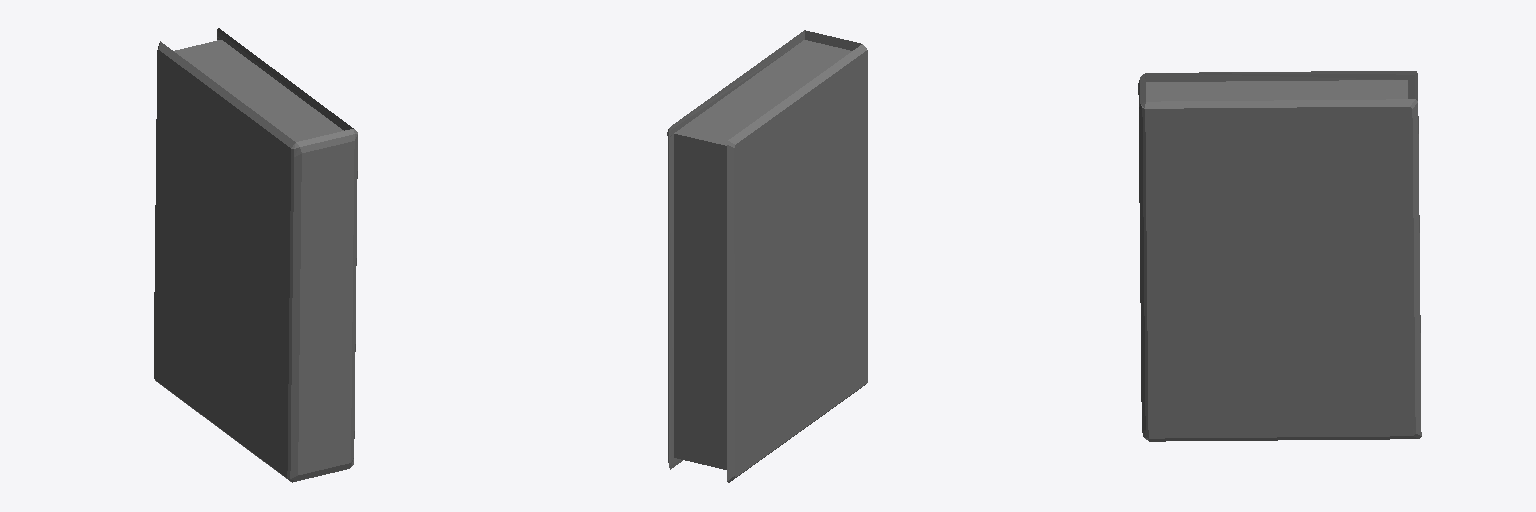
The model's file is modi_book.obj.
The picture shows the model from 3 angles: view 1: azimuth 30°, elevation 25°; view 2: azimuth 150°, elevation 25°; view 3: azimuth 270°, elevation 25°; orthographic projection.
Parts seen in each view (by area): view 1: Cube.001; view 2: Cube.001; view 3: Cube.001.
Boxes of the visible parts, x1=… form: Cube.001: x1=154, y1=28, x2=357, y2=482; Cube.001: x1=667, y1=30, x2=867, y2=482; Cube.001: x1=1138, y1=71, x2=1421, y2=441.
Bounding box in the file's own units: 0.3102 × 1.47 × 1.1.